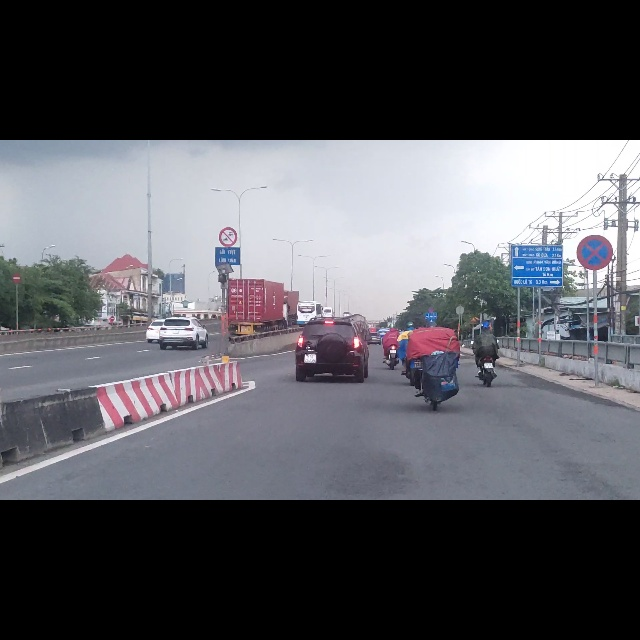bien_cam: (575, 167, 614, 235), (219, 154, 237, 190), (12, 235, 21, 254), (111, 313, 115, 322)
